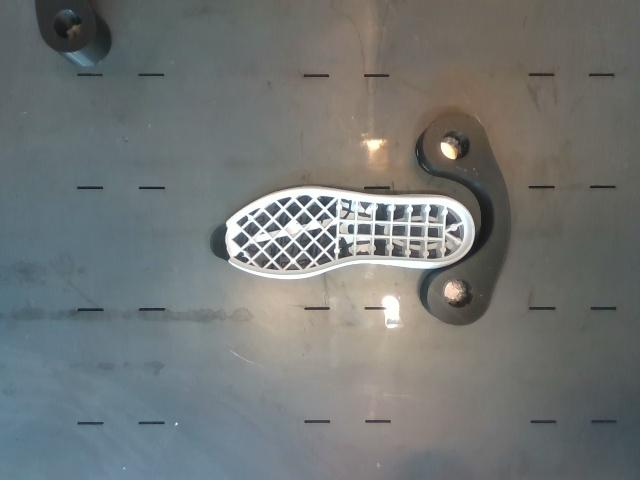shoes: (212, 189, 474, 275)
